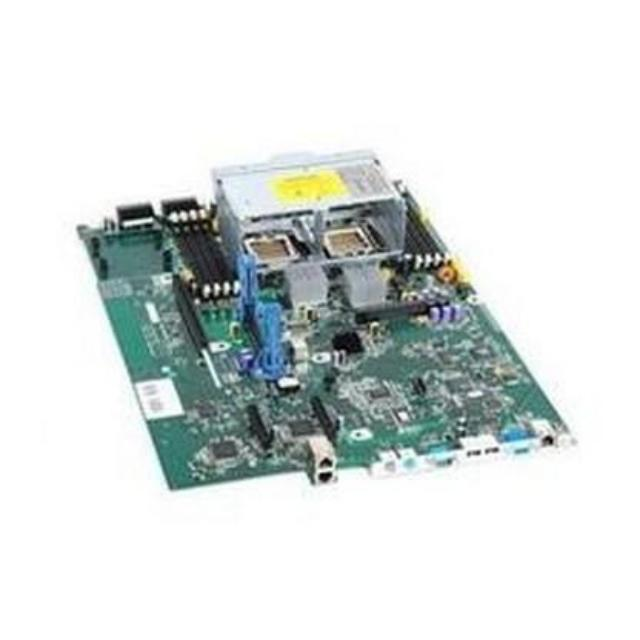Mainboard: (68, 144, 580, 498)
